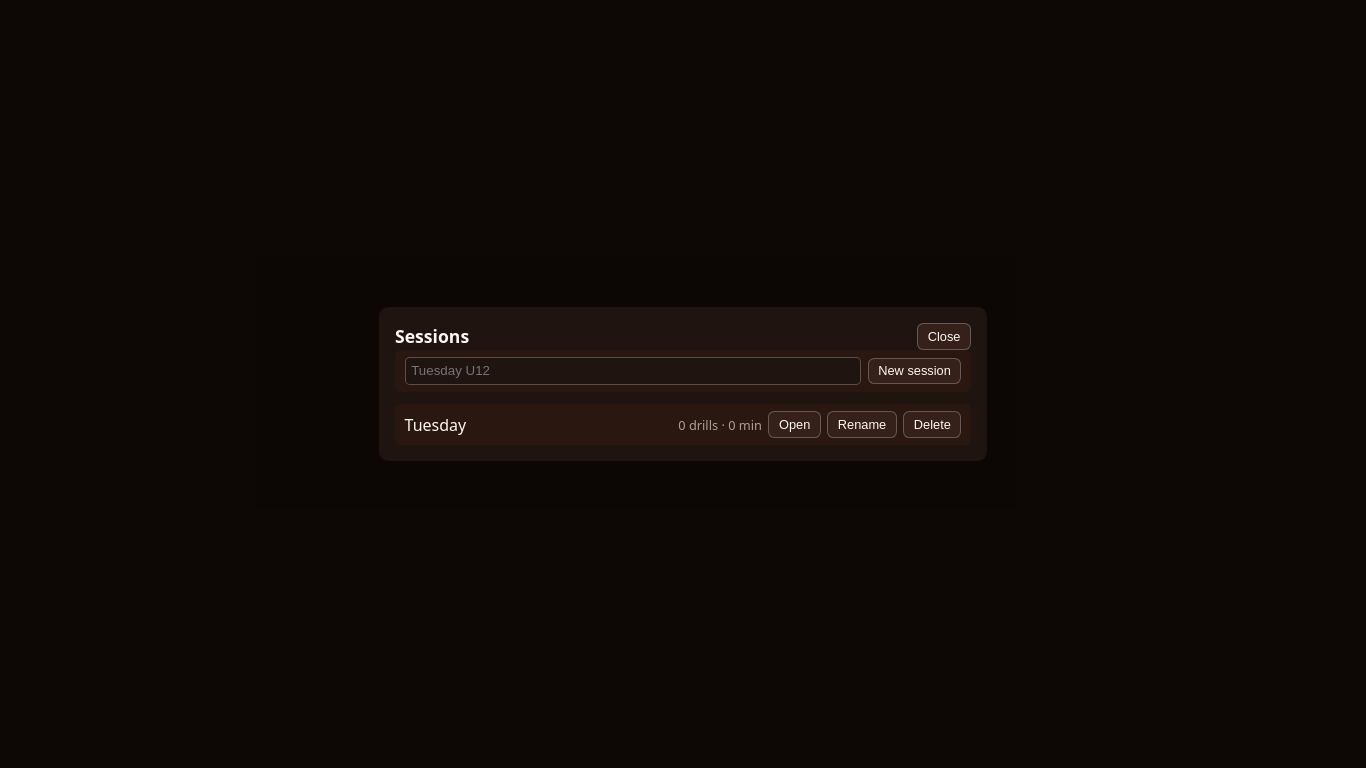
SessionLibrary › renames
Click the button "Rename".
click(862, 425)  # box [827, 411, 897, 438]
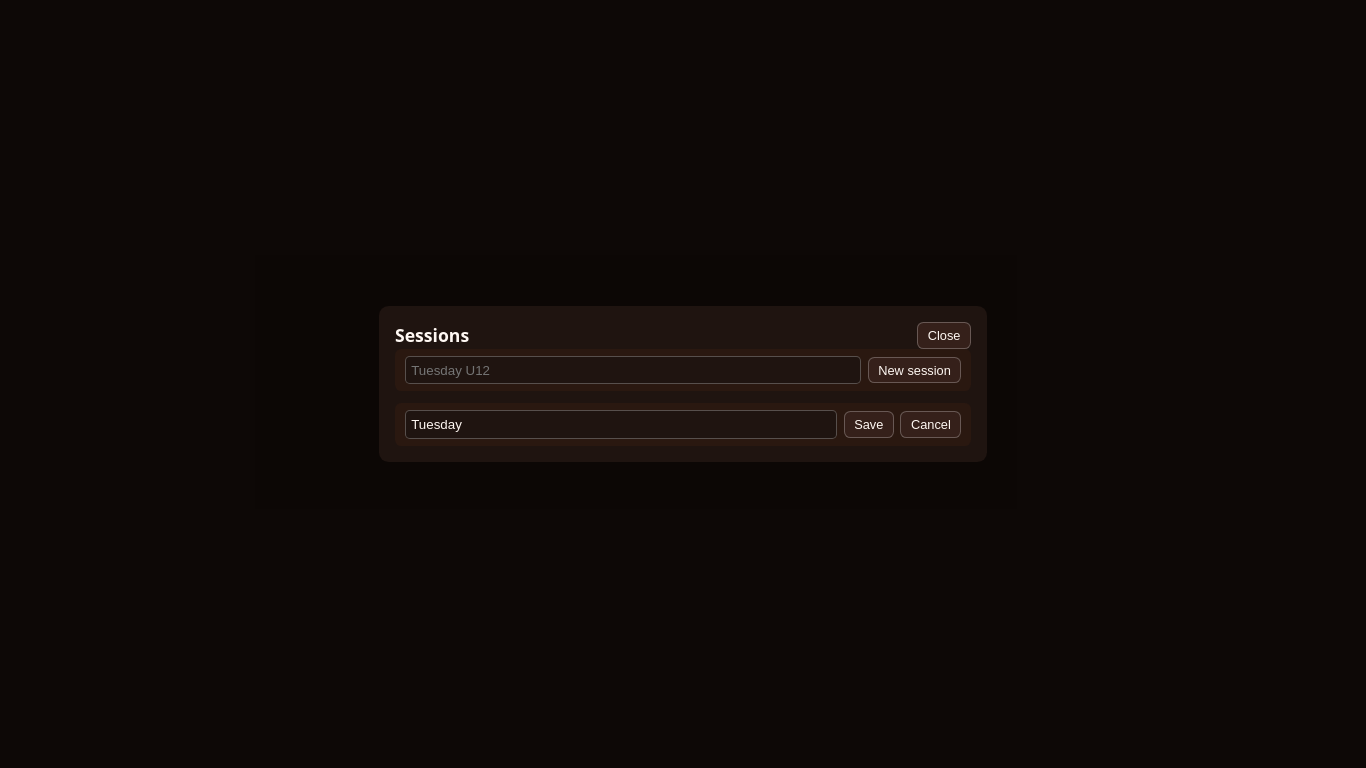
Replace the text in the 2nd field with "Wednesday" at [621, 425], box [405, 410, 837, 439]
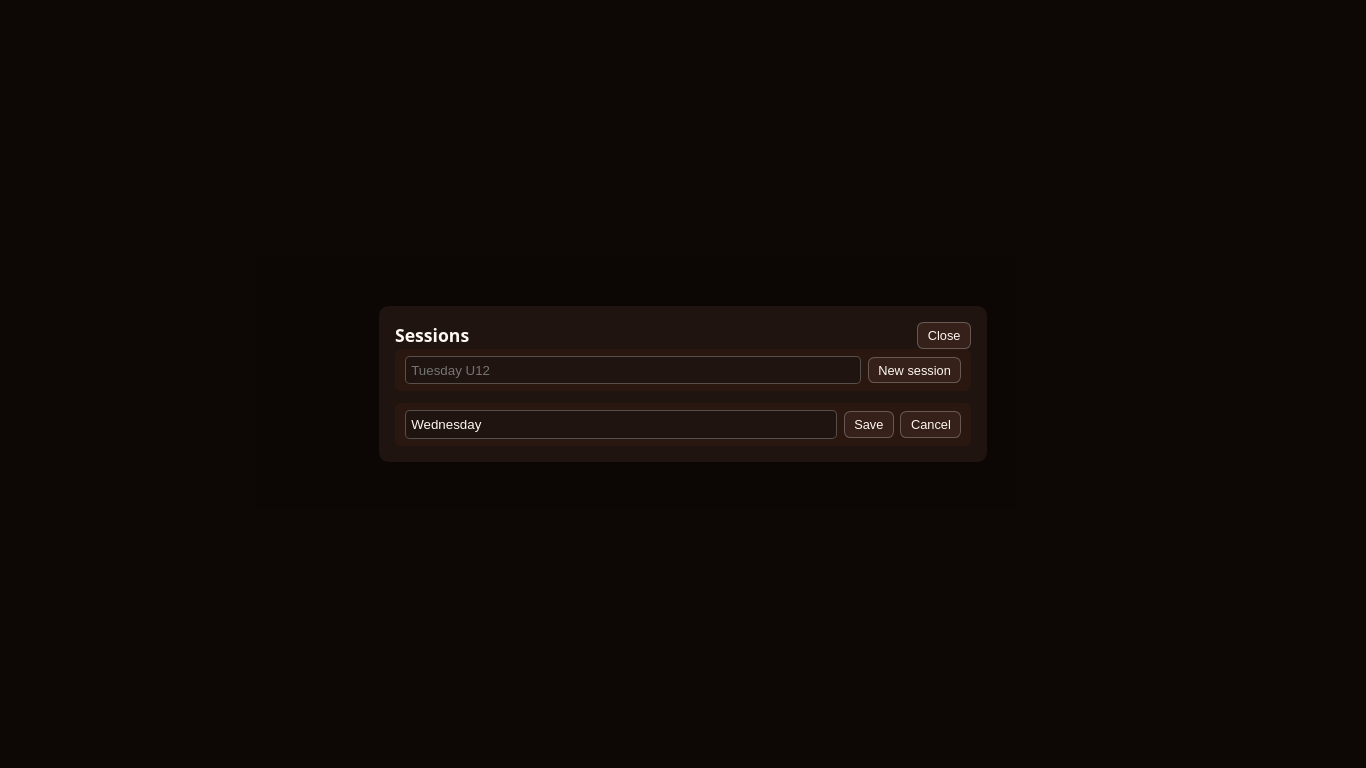
Click the button "Save".
click(869, 425)  # box [844, 411, 894, 438]
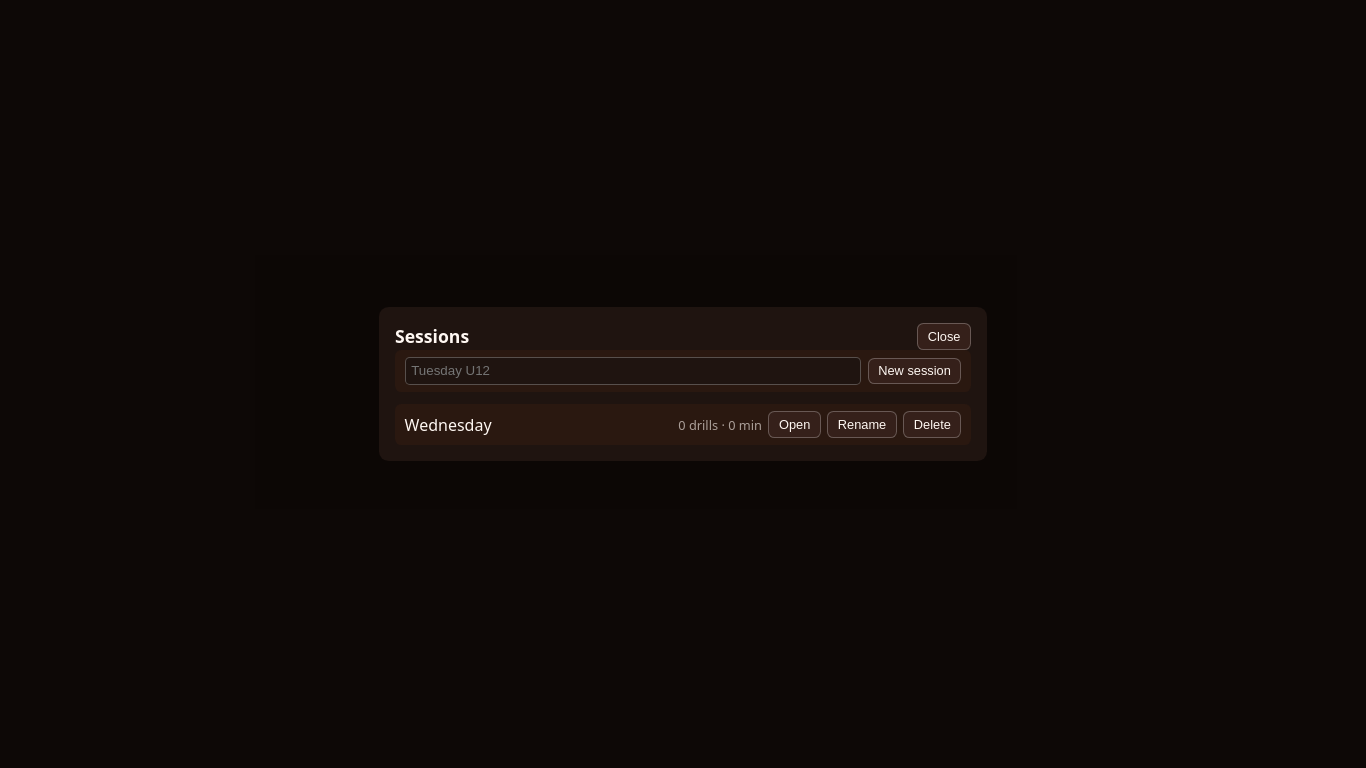
Check: the text "Wednesday" is shown, box [405, 414, 492, 436]
